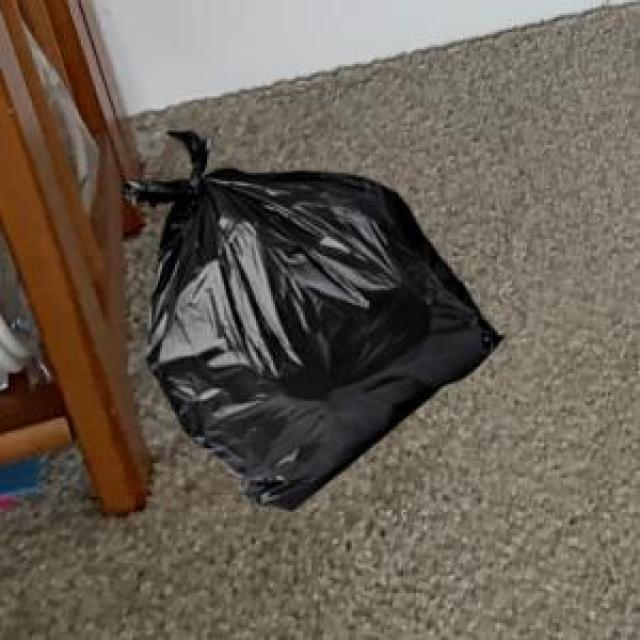waste: (130, 131, 501, 508)
